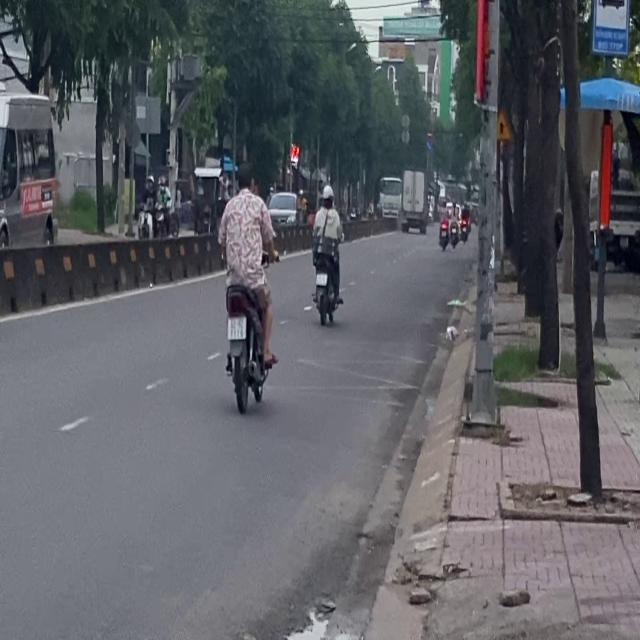licenseplate: (217, 158, 278, 411)
motorcyclist: (234, 160, 254, 193)
nohelmet: (227, 316, 246, 338)
